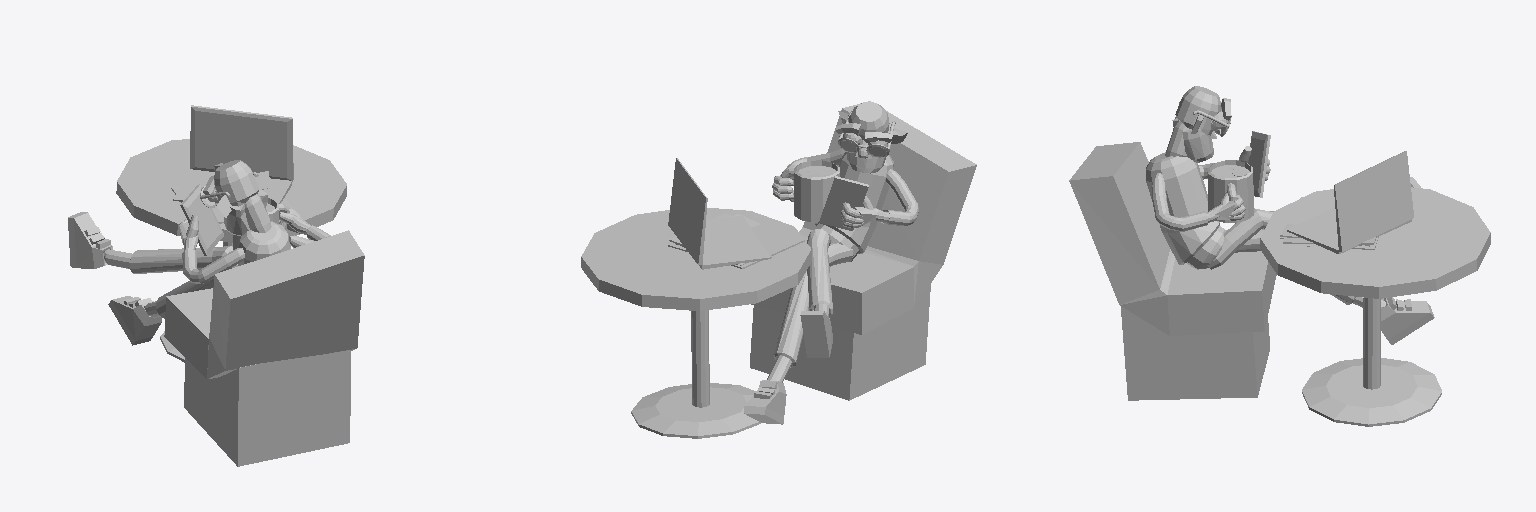
File: sitting.obj
3 renders of one model, left to right at view 1: azimuth 30°, elevation 25°; view 2: azimuth 150°, elevation 25°; view 3: azimuth 270°, elevation 25°, orthographic.
Visible parts, largest first — view 1: group[number redacted], group[number redacted], group[number redacted], group[number redacted], group[number redacted], group[number redacted], group[number redacted], group[number redacted], group[number redacted], group[number redacted], group[number redacted], group[number redacted] (+4 smaller); view 2: group[number redacted], group[number redacted], group[number redacted], group[number redacted], group[number redacted], group[number redacted], group[number redacted], group[number redacted], group[number redacted], group[number redacted], group[number redacted], group[number redacted] (+6 smaller); view 3: group[number redacted], group[number redacted], group[number redacted], group[number redacted], group[number redacted], group[number redacted], group[number redacted], group[number redacted], group[number redacted], group[number redacted], group[number redacted], group[number redacted] (+6 smaller).
Boxes of the visible parts, x1,y1,x2,y2 form: group[number redacted]: [164, 230, 364, 378]; group[number redacted]: [184, 350, 350, 466]; group[number redacted]: [116, 139, 346, 242]; group[number redacted]: [190, 105, 293, 181]; group[number redacted]: [104, 246, 237, 273]; group[number redacted]: [68, 212, 112, 268]; group[number redacted]: [108, 296, 161, 345]; group[number redacted]: [214, 160, 258, 206]; group[number redacted]: [237, 221, 290, 265]; group[number redacted]: [182, 235, 244, 283]; group[number redacted]: [180, 184, 223, 255]; group[number redacted]: [173, 169, 291, 205]; group[number redacted]: [751, 101, 976, 334]; group[number redacted]: [581, 208, 811, 310]; group[number redacted]: [750, 284, 930, 400]; group[number redacted]: [631, 383, 760, 438]; group[number redacted]: [668, 158, 707, 264]; group[number redacted]: [699, 216, 771, 269]; group[number redacted]: [767, 243, 853, 382]; group[number redacted]: [781, 160, 839, 222]; group[number redacted]: [815, 152, 893, 253]; group[number redacted]: [807, 229, 832, 317]; group[number redacted]: [691, 310, 709, 407]; group[number redacted]: [744, 380, 786, 424]; group[number redacted]: [1069, 142, 1276, 335]; group[number redacted]: [1260, 187, 1490, 298]; group[number redacted]: [1121, 307, 1269, 400]; group[number redacted]: [1302, 358, 1441, 426]; group[number redacted]: [1334, 151, 1413, 251]; group[number redacted]: [1146, 152, 1219, 264]; group[number redacted]: [1208, 160, 1253, 222]; group[number redacted]: [1381, 297, 1434, 344]; group[number redacted]: [1363, 298, 1380, 389]; group[number redacted]: [1151, 173, 1221, 231]; group[number redacted]: [1175, 86, 1220, 135]; group[number redacted]: [1287, 208, 1411, 253].
Size of the model in its own units: 2.33 by 2.5 by 3.45.